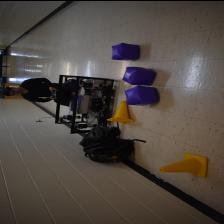cone: (158, 152, 208, 176), (106, 100, 134, 122)
cube: (125, 84, 158, 106), (122, 65, 155, 84), (111, 42, 140, 60)
